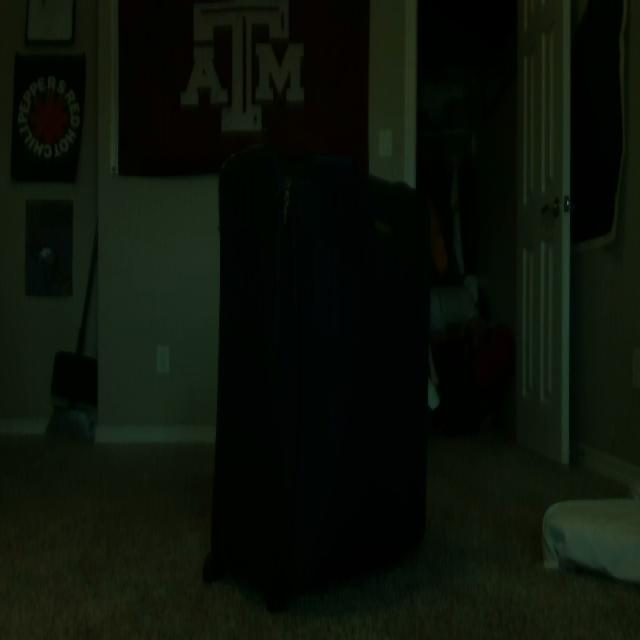suitcase: (204, 140, 433, 604)
